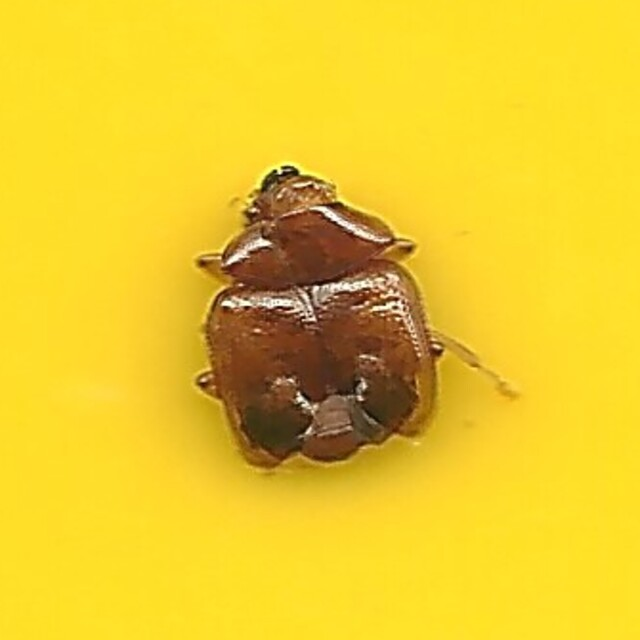Coleoptera: (191, 166, 449, 474)
